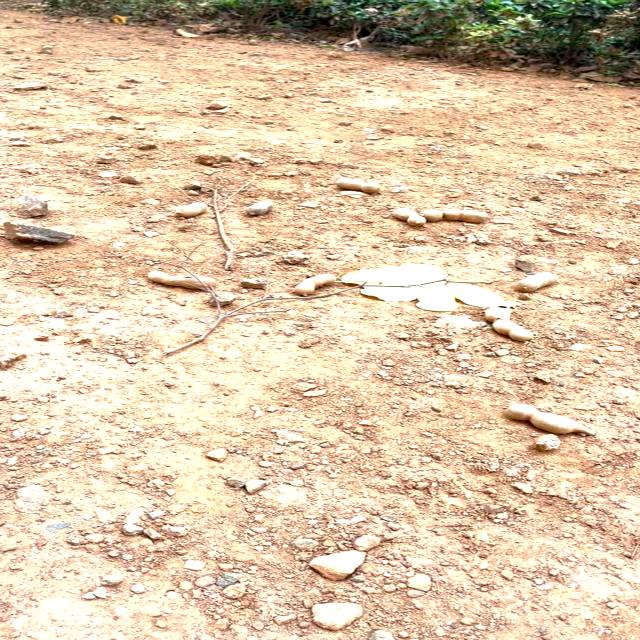tamarind: (501, 401, 603, 439), (391, 201, 498, 228), (482, 306, 533, 344), (146, 270, 221, 293), (324, 175, 386, 196), (291, 272, 340, 296), (516, 269, 562, 292), (168, 200, 208, 220)
